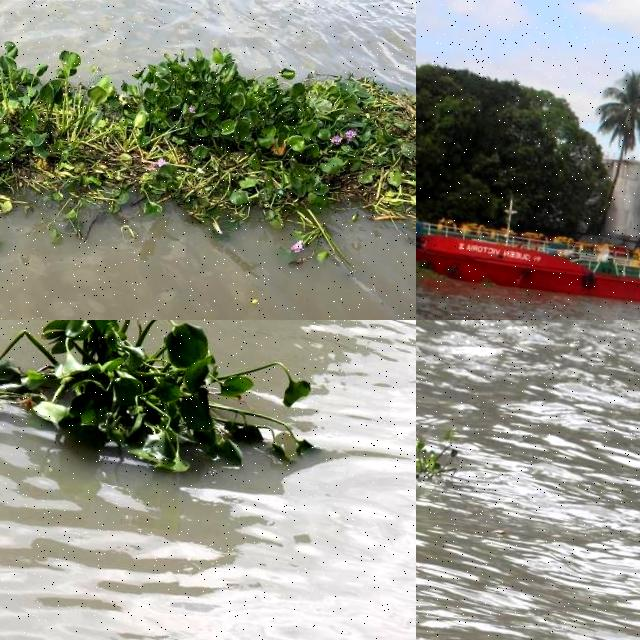water-hyacinth: (1, 43, 415, 276), (1, 321, 322, 487), (417, 427, 464, 487)
